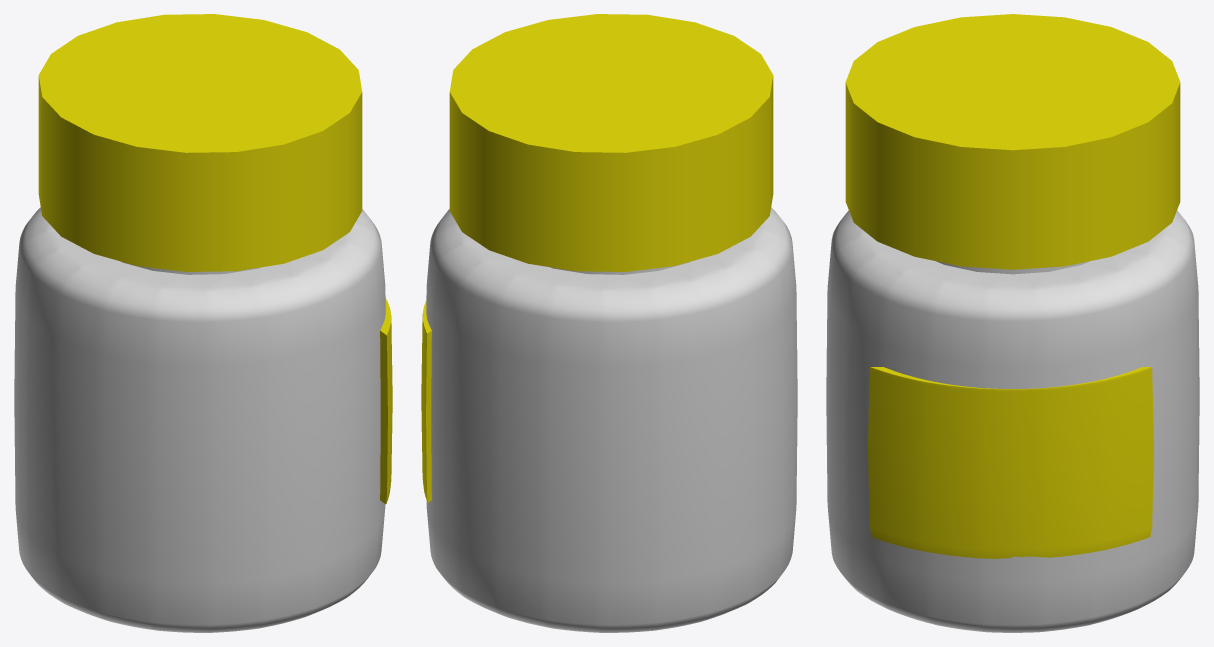
The model's file is aspirin.fbx.
3 renders of one model, left to right at view 1: azimuth 30°, elevation 25°; view 2: azimuth 150°, elevation 25°; view 3: azimuth 270°, elevation 25°, orthographic.
Parts seen in each view (by area): view 1: pCylinder8; view 2: pCylinder8; view 3: pCylinder8.
Boxes of the visible parts, <box> form: pCylinder8: <box>14,14,392,632</box>; pCylinder8: <box>421,14,797,632</box>; pCylinder8: <box>826,14,1199,632</box>.
Size of the model in its own units: 6.78 by 9.69 by 6.75.
